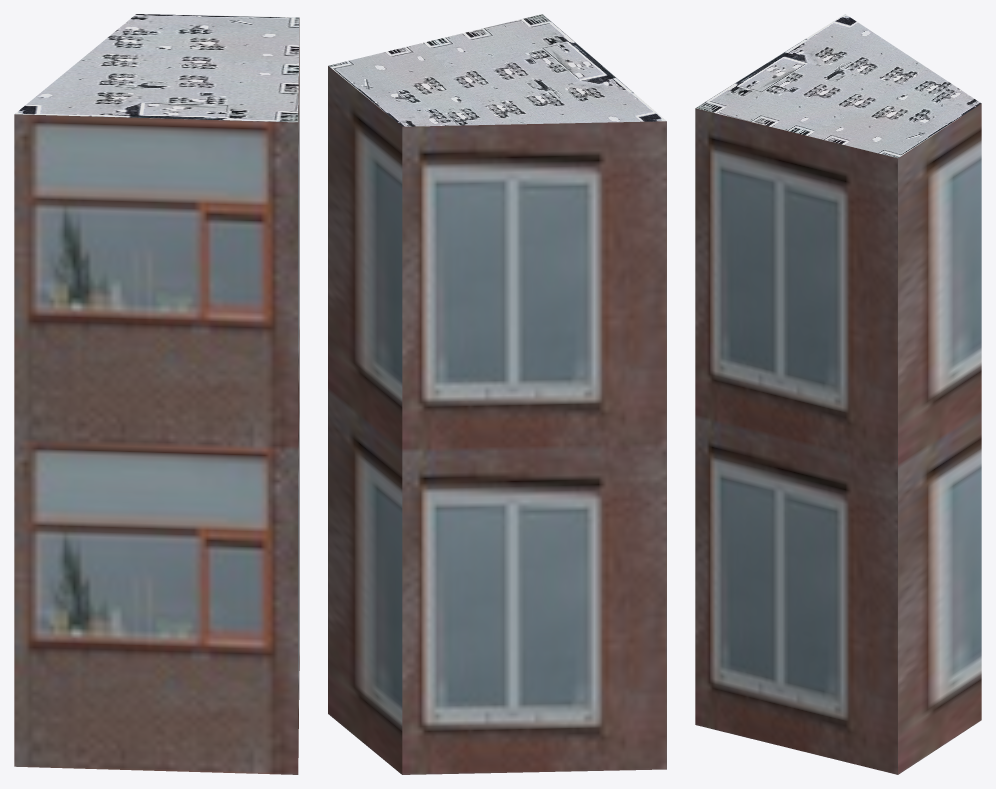
The model's file is ResTex__3914.fbx.
The picture shows the model from 3 angles, left to right: view 1: azimuth 30°, elevation 25°; view 2: azimuth 150°, elevation 25°; view 3: azimuth 270°, elevation 25°; orthographic projection. The views are drawn at different scales.
Parts seen in each view (by area): view 1: CityEngineMaterial_19_m, CityEngineMaterial_15_m; view 2: CityEngineMaterial_19_m, CityEngineMaterial_15_m; view 3: CityEngineMaterial_19_m, CityEngineMaterial_15_m.
Part boxes in pixels (x1,y1,x2,y2): CityEngineMaterial_19_m: (14,18,299,774); CityEngineMaterial_15_m: (15,14,299,122); CityEngineMaterial_19_m: (328,66,666,774); CityEngineMaterial_15_m: (328,14,666,126); CityEngineMaterial_19_m: (695,104,981,774); CityEngineMaterial_15_m: (695,14,981,158).
Bounding box in the file's own units: 3.01 × 6 × 2.53.
2 materials, 2 textured.
